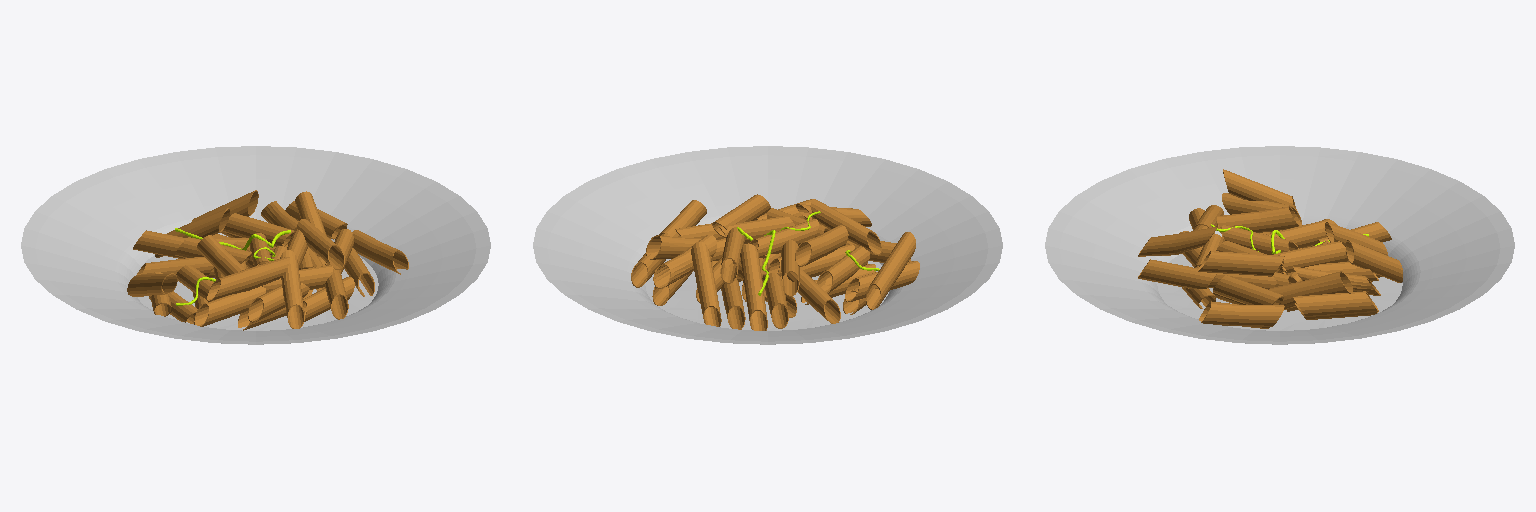
File: Pasta.obj
3 renders of one model, left to right at view 1: azimuth 30°, elevation 25°; view 2: azimuth 150°, elevation 25°; view 3: azimuth 270°, elevation 25°, orthographic.
Visible parts, largest first — view 1: Cylinder001, Cylinder037, Cylinder036, Cylinder038, Cylinder017, Cylinder046, Cylinder043, Cylinder045, Cylinder044, Cylinder033, Cylinder039, Cylinder049 (+12 smaller); view 2: Cylinder001, Cylinder049, Cylinder045, Cylinder023, Cylinder037, Cylinder044, Cylinder026, Cylinder041, Cylinder042, Cylinder035, Cylinder043, Cylinder031 (+9 smaller); view 3: Cylinder001, Cylinder017, Cylinder043, Cylinder024, Cylinder018, Cylinder044, Cylinder025, Cylinder038, Cylinder023, Cylinder046, Cylinder016, Cylinder045 (+6 smaller).
Part boxes in pixels (x1,y1,x2,y2): Cylinder001: (21,146,490,344); Cylinder037: (207,257,289,301); Cylinder036: (194,286,265,326); Cylinder038: (280,250,304,328); Cylinder017: (352,230,408,274); Cylinder046: (222,213,295,246); Cylinder043: (297,219,344,269); Cylinder045: (127,273,177,296); Cylinder044: (197,235,244,276); Cylinder033: (133,230,185,258); Cylinder039: (248,283,309,322); Cylinder049: (155,208,229,257); Cylinder001: (533,146,1002,344); Cylinder049: (740,243,767,330); Cylinder045: (866,232,915,309); Cylinder023: (691,241,721,326); Cylinder037: (810,199,881,255); Cylinder044: (795,225,848,266); Cylinder026: (787,268,840,323); Cylinder041: (653,234,716,288); Cylinder042: (749,219,818,258); Cylinder035: (817,246,869,293); Cylinder043: (712,194,770,237); Cylinder031: (845,261,919,301); Cylinder001: (1045,146,1514,344); Cylinder017: (1199,303,1284,326); Cylinder043: (1198,251,1284,276); Cylinder024: (1293,291,1378,316); Cylinder018: (1138,259,1216,288); Cylinder044: (1217,206,1301,232); Cylinder025: (1269,271,1352,309); Cylinder038: (1138,227,1216,256); Cylinder023: (1346,240,1402,282); Cylinder046: (1273,241,1347,272); Cylinder016: (1213,275,1283,304); Cylinder045: (1223,169,1296,209).
Bounding box in the file's own units: 1.73 × 0.2573 × 1.73.